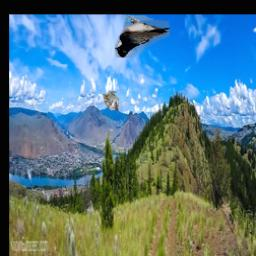Sparrow: (103, 91, 119, 111)
Swallow: (115, 15, 170, 58)
